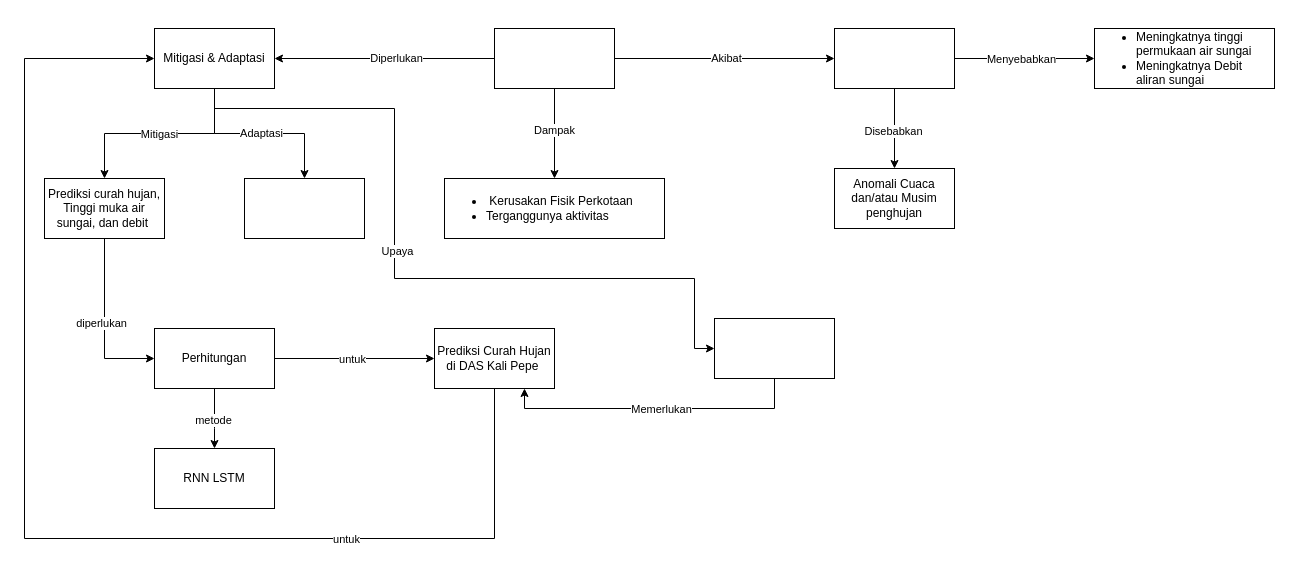
The diagram is 1292 pixels wide and 564 high, and some of its shapes have lost their labels. The shapes that lost their labels are listed below. From the top down, each one's centre as x and y in pixels, then its label:
(x=554, y=58): Bencana Banjir
(x=894, y=58): Curah Hujan Tinggi
(x=304, y=208): Membangun infrastruktur drainase yang baik
(x=774, y=348): Pemantauan & Peringatan Dini
